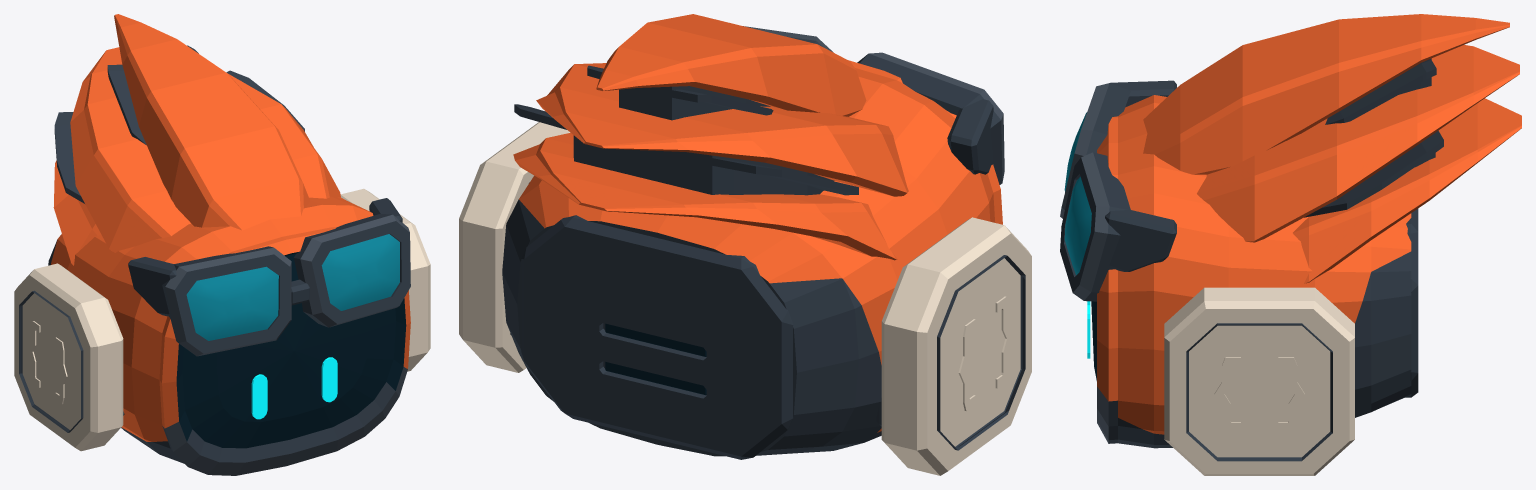
Rendered from copilot_developer_v01.glb.
3 views of the same model, side by side, from view 1: azimuth 30°, elevation 25°; view 2: azimuth 150°, elevation 25°; view 3: azimuth 270°, elevation 25° (orthographic). The views are drawn at different scales.
Visible parts, largest first — view 1: developer_model; view 2: developer_model; view 3: developer_model.
Part boxes in pixels (<box>): developer_model: <box>14,14,430,475</box>; developer_model: <box>459,14,1031,475</box>; developer_model: <box>1060,14,1521,475</box>.
Size of the model in its own units: 2.38 by 2.13 by 2.3.
2 materials, 2 textured.
